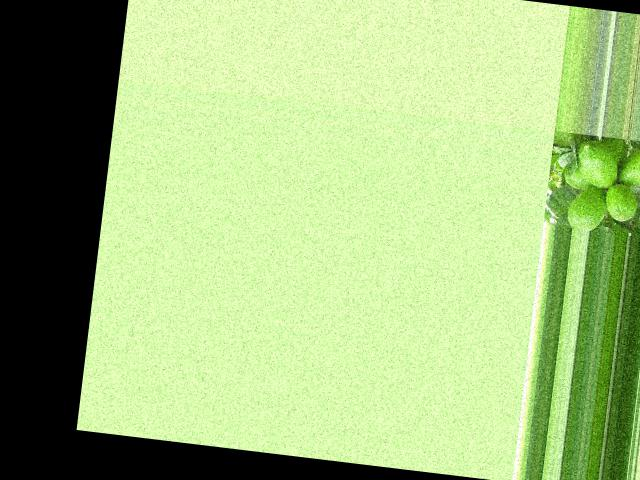lemon: (614, 144, 640, 192)
